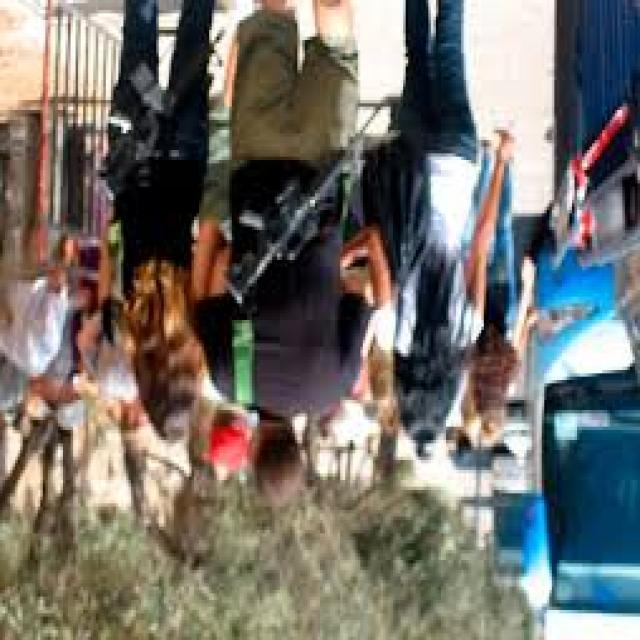gun: (214, 80, 397, 315), (78, 13, 231, 232)
